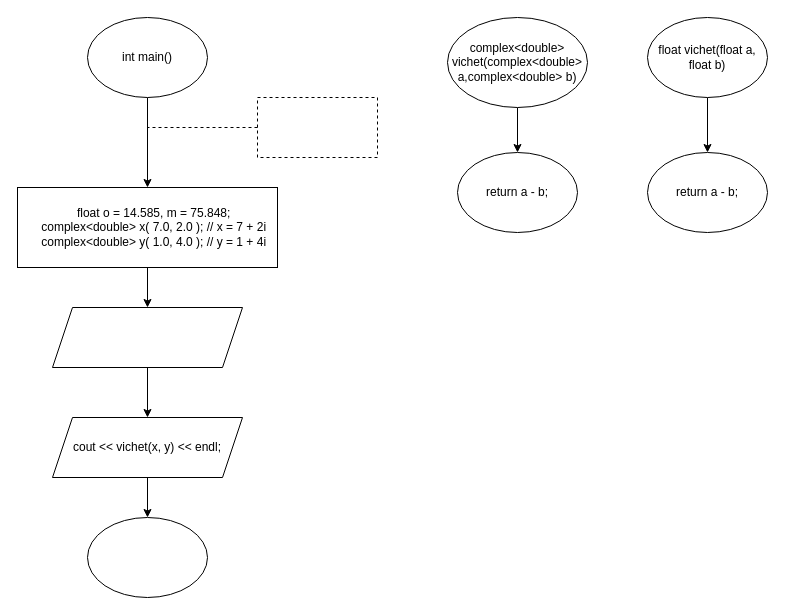
This 785x615 diagram has some shape labels left out. The centre of each missing label's shape, as x and y in pixels:
"#include<iostream> #include<complex> using namespace std; int main()" goes at point (317, 127).
"cout << vichet(o,m) << endl;" goes at point (147, 337).
"return 0;" goes at point (147, 557).
